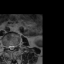CCS_normal: (10, 43, 12, 51)
LFS_normal: (14, 43, 16, 49)
LLS_normal: (12, 43, 14, 51)
RFS_normal: (7, 44, 9, 50)
RLS_normal: (9, 44, 10, 51)
